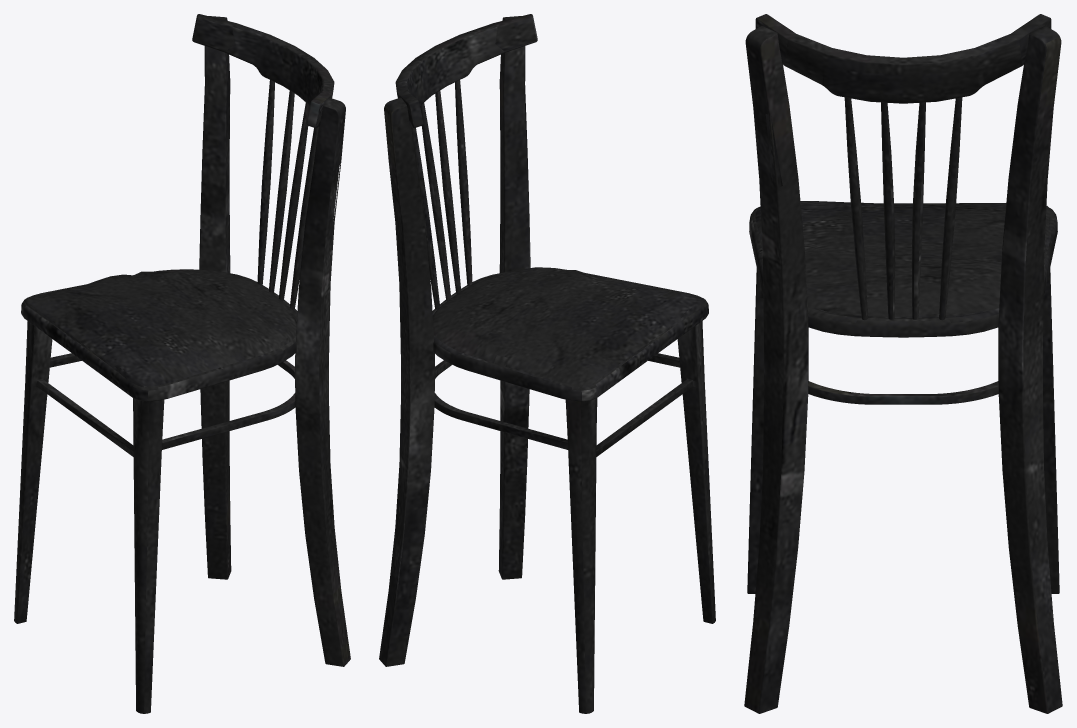
File: SM_Horror_Attic_Chair.fbx
The picture shows the model from 3 angles, left to right: view 1: azimuth 30°, elevation 25°; view 2: azimuth 150°, elevation 25°; view 3: azimuth 270°, elevation 25°; orthographic projection. The views are drawn at different scales.
Visible parts, largest first — view 1: SM_Horror_Attic_Chair; view 2: SM_Horror_Attic_Chair; view 3: SM_Horror_Attic_Chair.
Part boxes in pixels (left/top/right/bottom): SM_Horror_Attic_Chair: left=14, top=14, right=350, bottom=713; SM_Horror_Attic_Chair: left=379, top=14, right=715, bottom=713; SM_Horror_Attic_Chair: left=744, top=14, right=1062, bottom=713.
Bounding box in the file's own units: 49.43 × 47.6 × 112.
1 material, 1 textured.
